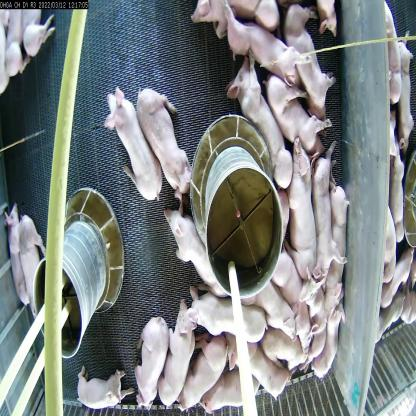Pig: (135, 61, 196, 190), (102, 89, 152, 211), (286, 7, 340, 116), (236, 76, 290, 185), (258, 65, 320, 148), (229, 4, 294, 83), (166, 209, 228, 284), (286, 146, 316, 272), (196, 290, 261, 348), (232, 336, 286, 405), (164, 297, 195, 415), (17, 218, 53, 318), (184, 333, 223, 415), (7, 198, 37, 298), (251, 284, 295, 351), (76, 362, 128, 415), (135, 318, 163, 416), (306, 278, 330, 370), (329, 186, 351, 285), (272, 327, 308, 384), (316, 157, 332, 278)
